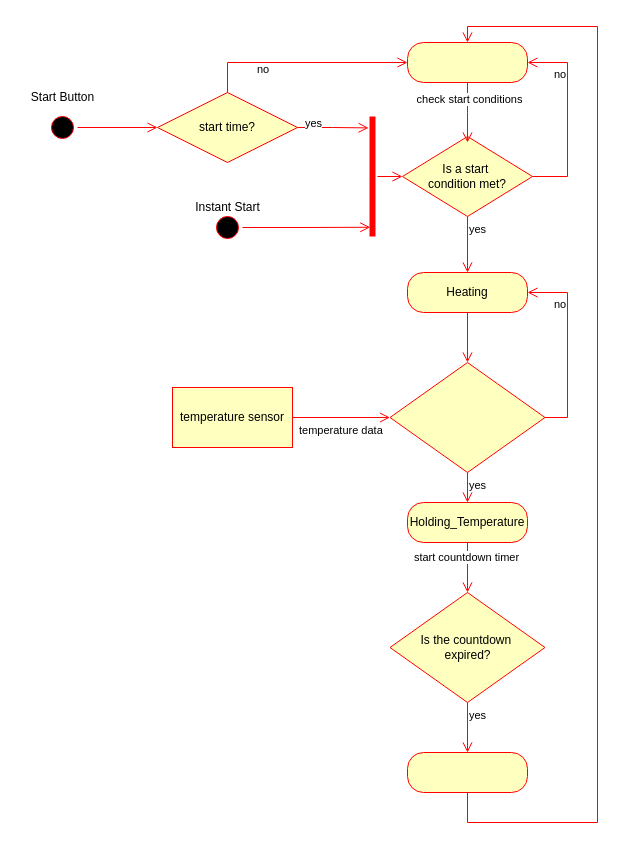
The diagram is 625 pixels wide and 850 high, and some of its shapes have lost their labels. Here are the shapes that lost their labels. From the top down, the centre of each, then its label:
At point 467,62: "Idle".
At point 467,417: "Is the minimal temperature reached?".
At point 467,772: "Done".
